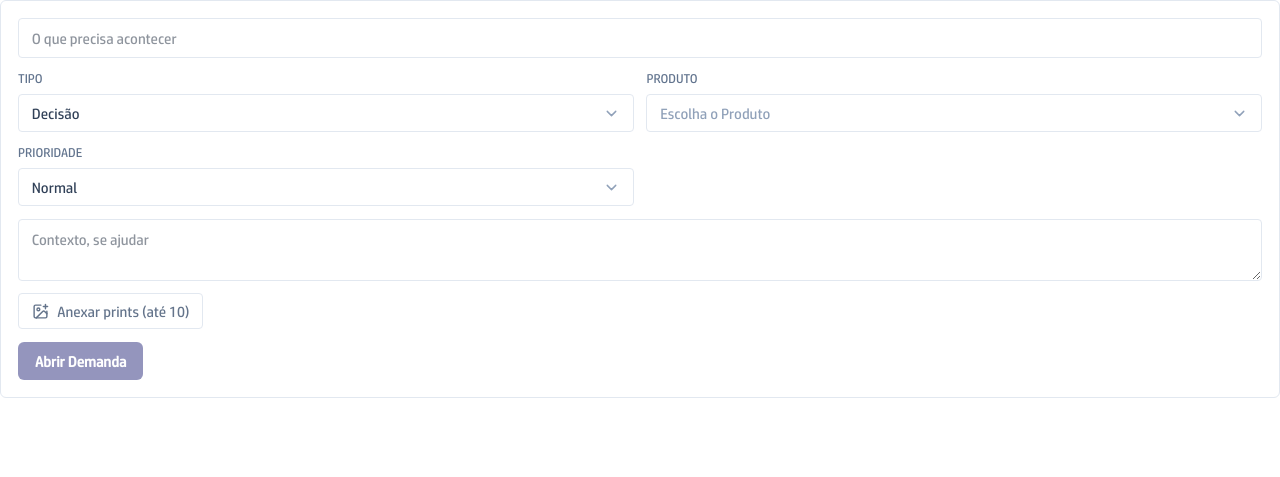
it: Abrir uma Demanda › a recusa do servidor chega ao Super admin
This screenshot has width=1280, height=477.
In the field named "Título": (640, 38) 18,18 -> 1262,58, type "Encerrar conversas"
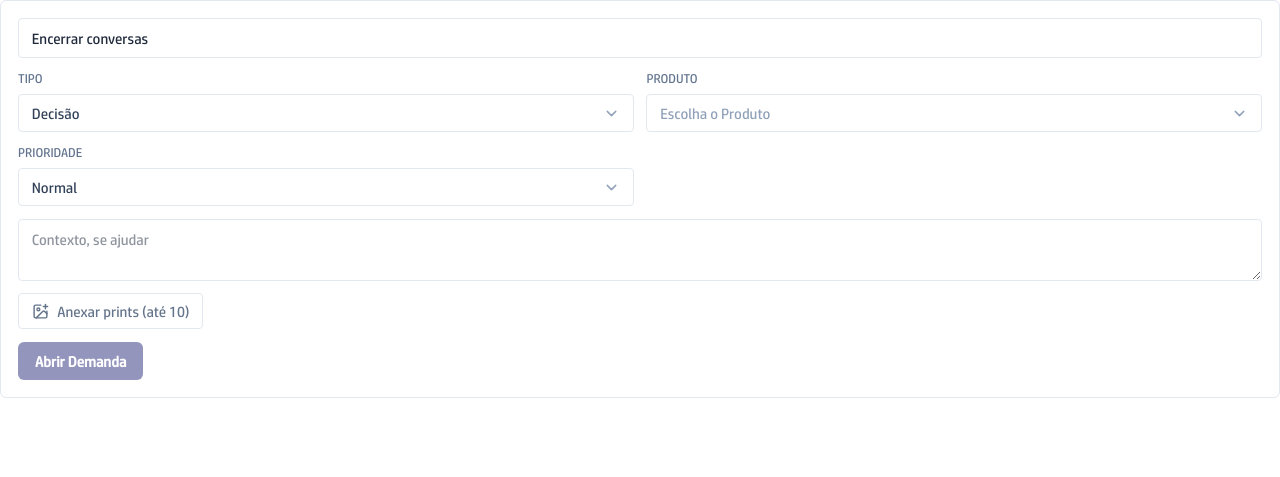
Click the dropdown labelled "Produto": (715, 113) 646,94 -> 1262,132
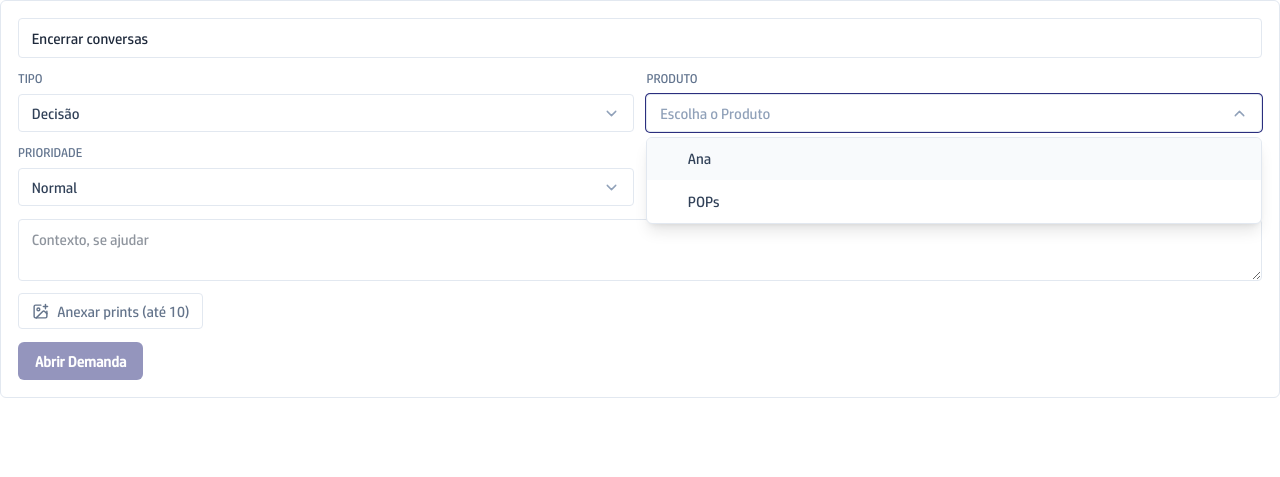
Click the option "Ana": (699, 159) 647,138 -> 1261,180
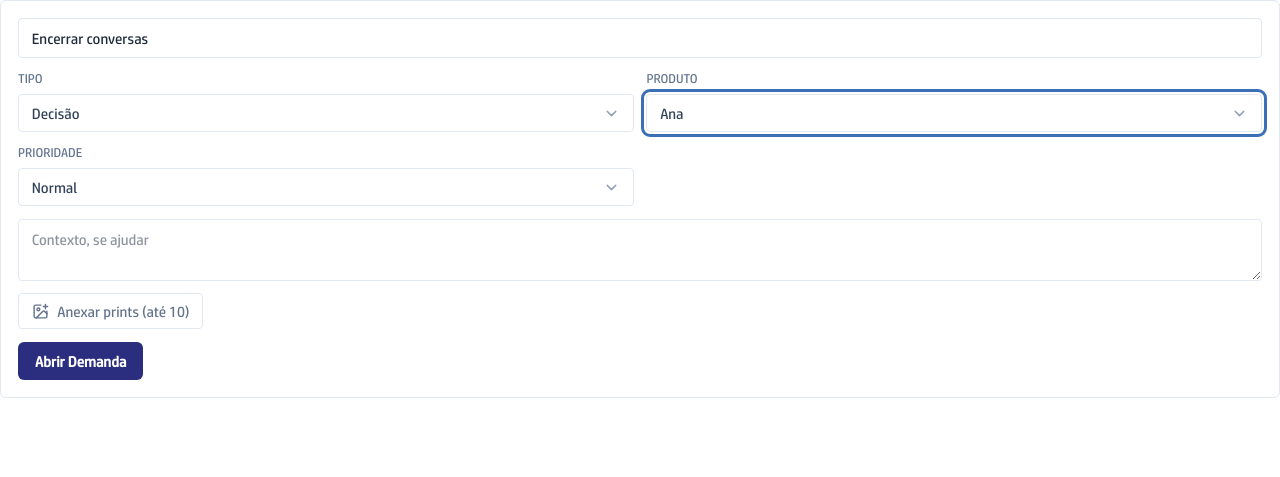
Click the button "Abrir Demanda": (81, 361) 18,342 -> 143,380
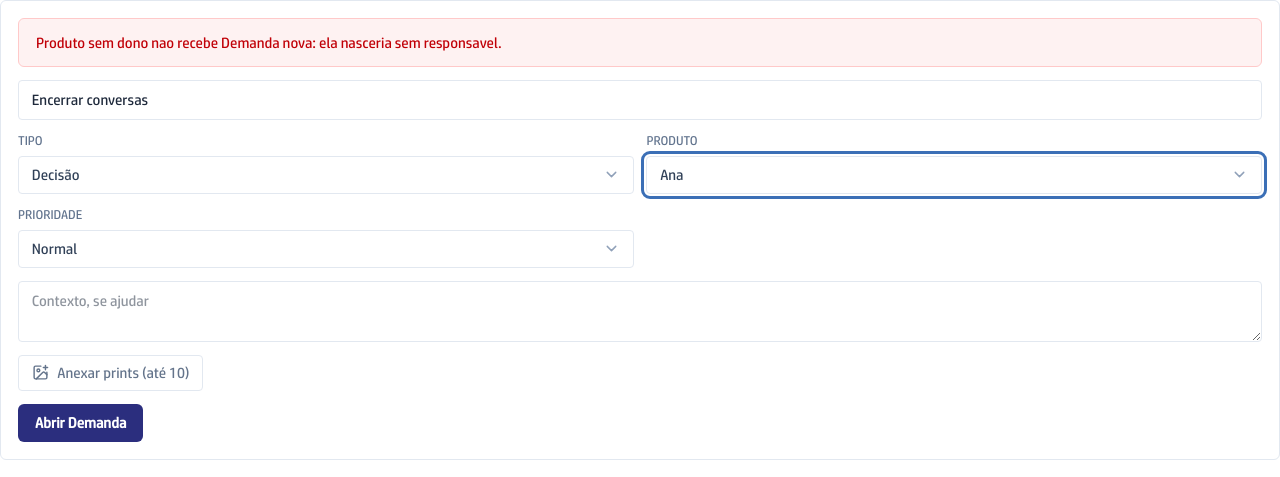
Now the message shows "Produto sem dono", box 36,34 -> 502,51
